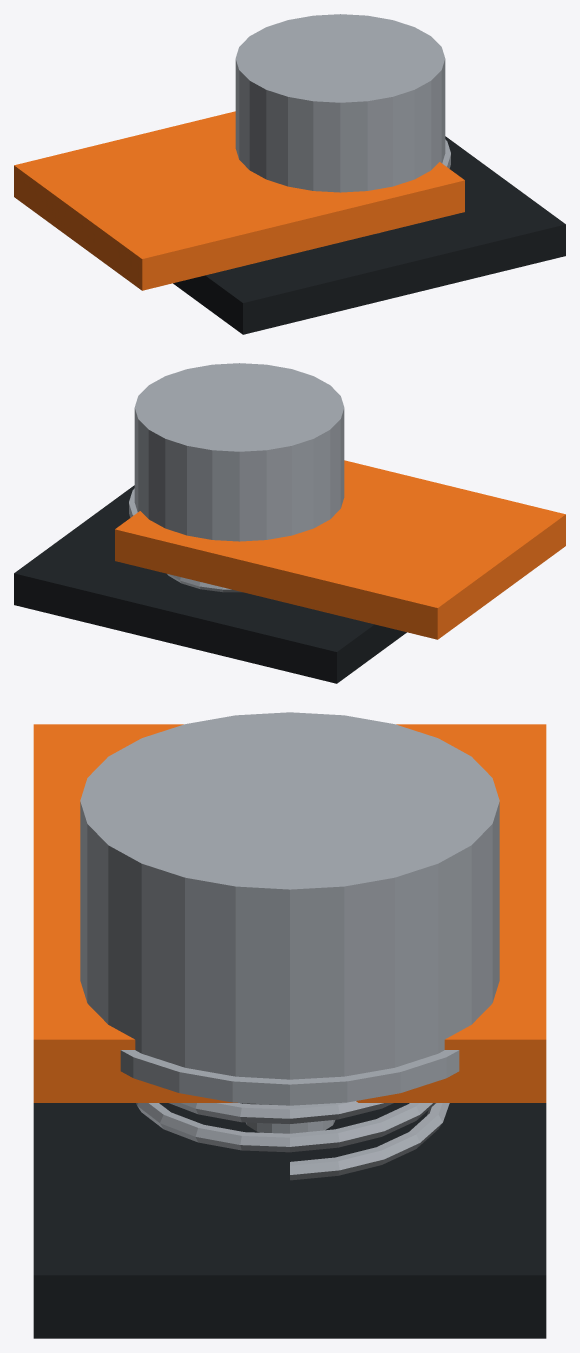
Rendered from piston_jump.glb.
The picture shows the model from 3 angles, top to bottom: view 1: azimuth 30°, elevation 25°; view 2: azimuth 150°, elevation 25°; view 3: azimuth 270°, elevation 25°; orthographic projection. The views are drawn at different scales.
Visible parts, largest first — view 1: piston_petg, piston_steel, foot_rubber_and_chip; view 2: piston_petg, piston_steel, foot_rubber_and_chip; view 3: piston_steel, foot_rubber_and_chip, piston_petg, foot_steel.
Part boxes in pixels (<box>): piston_petg: <box>14,111,464,290</box>; piston_steel: <box>235,14,450,233</box>; foot_rubber_and_chip: <box>173,136,565,334</box>; piston_petg: <box>115,460,565,639</box>; piston_steel: <box>129,363,344,592</box>; foot_rubber_and_chip: <box>14,485,406,683</box>; piston_steel: <box>80,712,499,1180</box>; foot_rubber_and_chip: <box>33,1103,546,1338</box>; piston_petg: <box>33,724,546,1102</box>; foot_steel: <box>243,1103,335,1133</box>.
Bounding box in the file's own units: 0.42 × 0.18 × 0.22.
